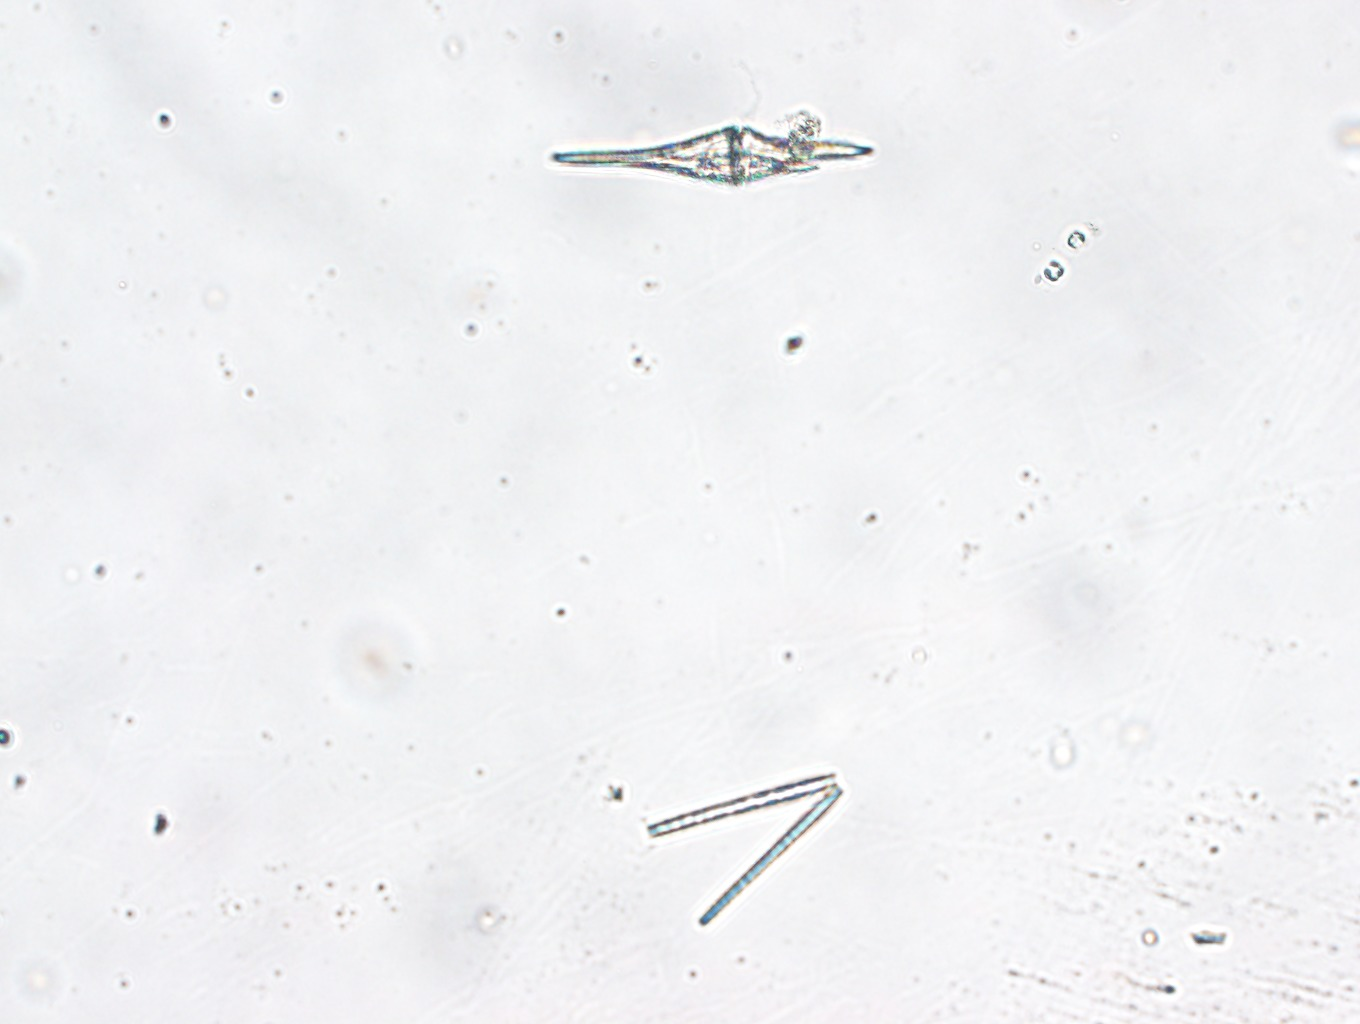ceratium furca: (549, 122, 874, 187)
thalassionema frauenfeldii: (646, 772, 840, 928)
